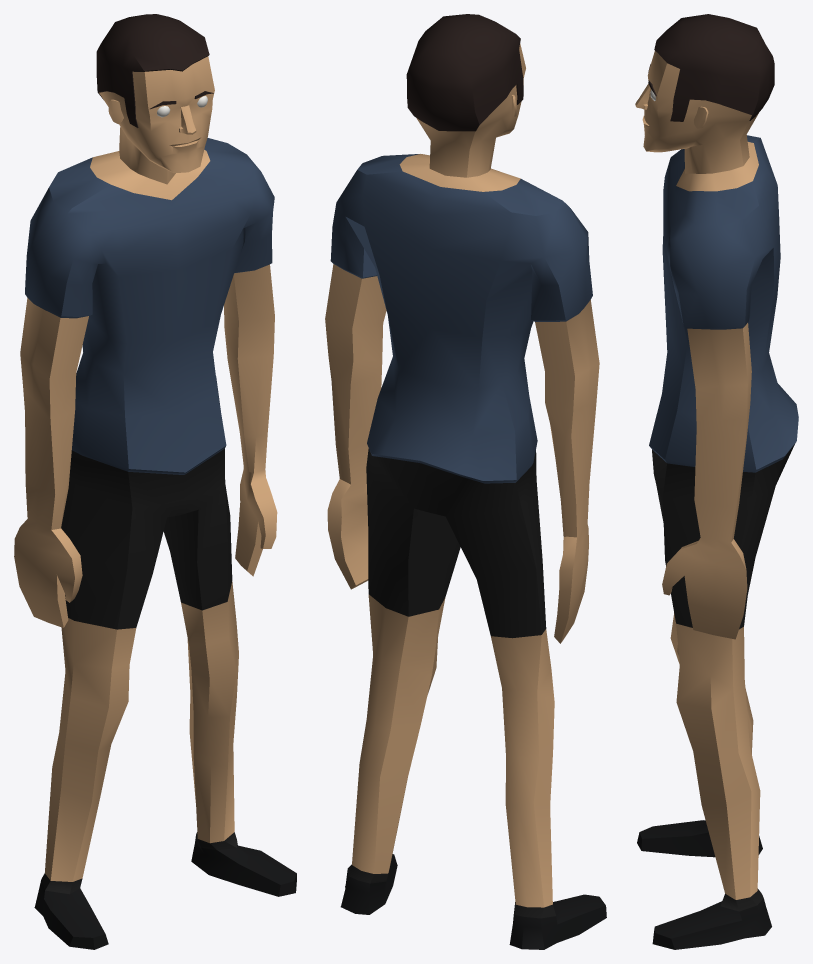
The model's file is male_casual.glb.
The picture shows the model from 3 angles, left to right: view 1: azimuth 30°, elevation 25°; view 2: azimuth 150°, elevation 25°; view 3: azimuth 270°, elevation 25°; orthographic projection. The views are drawn at different scales.
Visible parts, largest first — view 1: MaleCasual; view 2: MaleCasual; view 3: MaleCasual.
Part boxes in pixels (left/top/right/bottom): MaleCasual: left=14, top=14, right=296, bottom=949; MaleCasual: left=325, top=14, right=606, bottom=949; MaleCasual: left=635, top=14, right=798, bottom=949.
Bounding box in the file's own units: 0.5319 × 1.8 × 0.3069.
